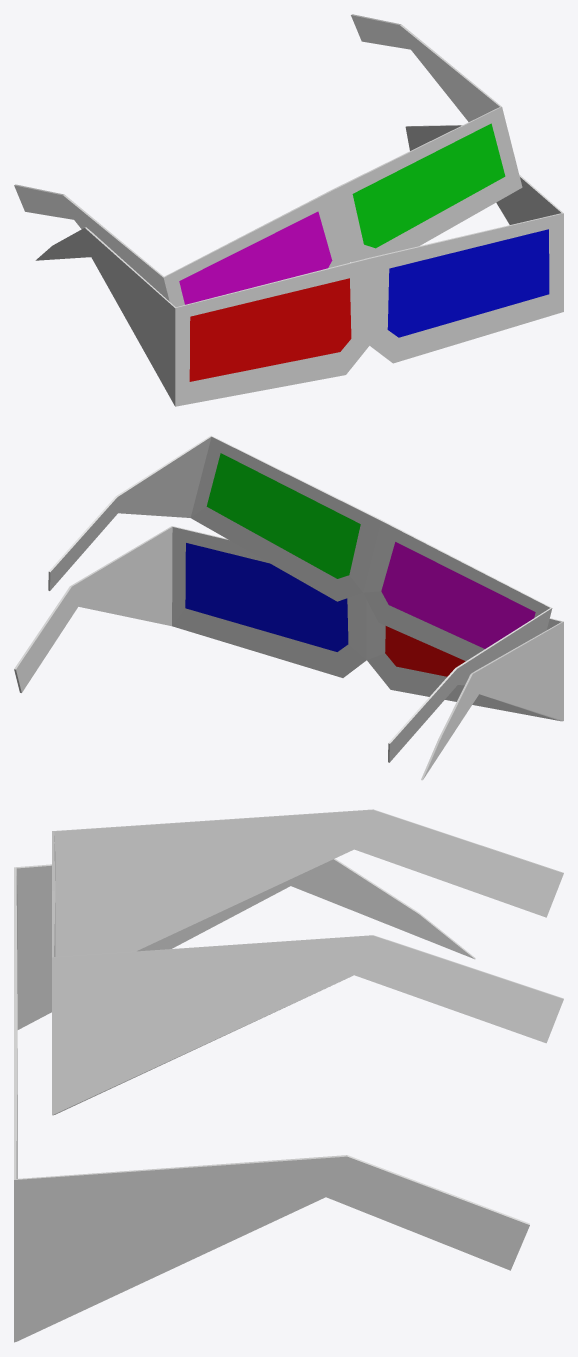
The model's file is FourDimentionalGlasses 2.fbx.
The picture shows the model from 3 angles, top to bottom: view 1: azimuth 30°, elevation 25°; view 2: azimuth 150°, elevation 25°; view 3: azimuth 270°, elevation 25°; orthographic projection. The views are drawn at different scales.
Visible parts, largest first — view 1: Cube, Cube.001; view 2: Cube.001, Cube; view 3: Cube.001, Cube.
Part boxes in pixels (x1,y1,x2,y2): Cube: (35, 125, 563, 406); Cube.001: (14, 14, 522, 306); Cube.001: (48, 435, 552, 762); Cube: (14, 526, 563, 780); Cube.001: (52, 809, 563, 1115); Cube: (14, 858, 529, 1342).
Bounding box in the file's own units: 202 × 113 × 149.
